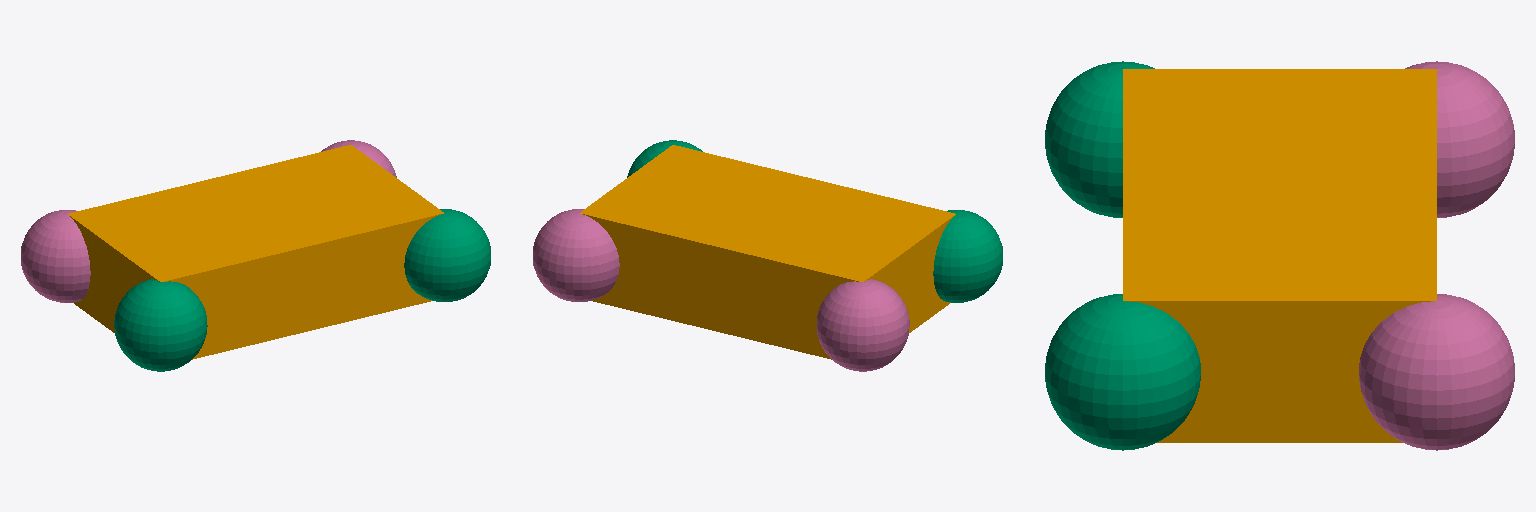
The robot description file, URDF, robot "cheetah3":
<?xml version="1.0" ?>
<robot name="cheetah3" xmlns:xacro="http://ros.org/wiki/xacro">
  <!-- ===== DUMMY 'BASE' LINK ==== -->
  <link name="body">
    <inertial>
      <!-- <mass value="8.9"/> -->
      <mass value="9.5"/>
      <!-- <origin xyz="0.00347 0.0 0.22524"/> -->
      <origin xyz="0.0 0.0 0.0"/>
      <inertia ixx="0.3006167" ixy="0" ixz="0" iyy="0.23837" iyz="0" izz="0.09690467"/>
    </inertial>
  <visual>
      <geometry>
          <box size="0.35 0.2 0.1" />
      </geometry>
     <origin rpy = "0 0 0" xyz = "0.0 0 0"/>
  </visual>
  </link>
  <!-- IMU -->
  <joint name="fixed_imu" type="fixed">
    <axis xyz="0 1 0"/>
    <origin rpy="0 0 0" xyz="-0.02 -0.07 0.05"/>
    <parent link="body"/>
    <child link="imu" />
  </joint>
  <link name="imu">
    <inertial>
      <mass value="0.0000000000001"/>
      <origin xyz="0.0 0.0 0.0"/>
      <inertia ixx="0.0000000001" ixy="0" ixz="0.0" iyy="0.000000001" iyz="0" izz="0.00000000001"/>
    </inertial>
  </link>


  <!--!!!!!!!!!!!! Front Right Leg !!!!!!!!!!!!!!!!!!!!!!!!!!!!!!!!!!!!-->
  <joint name="torso_to_abduct_fr_j" type="continuous">
    <axis xyz="1 0 0"/>
    <origin rpy="0 0 0" xyz="0.175 -0.1 0.0"/>
    <parent link="body"/>
    <child link="abduct_fr"/>
  </joint>
  <link name="abduct_fr">
    <inertial>
      <mass value="2.1656"/>
      <origin xyz="0.0 0. 0."/>
      <inertia ixx="0.003735" ixy="0.0" ixz="0.0" iyy="0.01391" iyz="0.0" izz="0.01355"/>
  </inertial>
  <visual>
      <geometry>
          <sphere radius="0.05" />
      </geometry>
     <origin rpy = "0 0 0" xyz = "0.0 0 0"/>
  </visual>
  </link>

  <joint name="abduct_fr_to_thigh_fr_j" type="continuous">
    <axis xyz="0 1 0"/>
    <origin rpy="0.0 0.0 0.0" xyz="0.0 -0.02 -0.02"/>
    <parent link="abduct_fr"/>
    <child link="thigh_fr"/>
  </joint>
  <link name="thigh_fr">
    <inertial>
      <mass value="3.2"/>
      <origin xyz="0.0 0.00 -0.075"/>
      <inertia ixx="0.038482" ixy="0" ixz="0.0" iyy="0.039835" iyz="-0.003" izz="0.0042934"/>
    </inertial>
  <visual>
      <geometry>
          <capsule radius="0.05" length="0.12" />
      </geometry>
      <origin rpy = "0 0 0" xyz = "0 0 0"/>
  </visual>
  </link>

  <joint name="thigh_fr_to_knee_fr_j" type="continuous">
    <axis xyz="0 1 0"/>
    <origin rpy="0.0 0 0.0" xyz="0.0 0.0 -0.15"/>
    <parent link="thigh_fr"/>
    <child link="shank_fr"/>
  </joint>
  <link name="shank_fr">
    <inertial>
      <mass value="0.649"/>
      <origin xyz="0.0 0.0 -0.075"/>
      <inertia ixx="0.00338" ixy="0" ixz="0.0" iyy="0.00338" iyz="0" izz="0.000011"/>
    </inertial>
  <visual>
      <geometry>
          <capsule radius="0.05" length="0.12" />
      </geometry>
      <origin rpy = "0 0 0" xyz = "0 0 0"/>
  </visual>
  </link>

  <joint name="ankle_fr" type="fixed">
    <axis xyz="0 1 0"/>
    <origin rpy="0 0 0" xyz="0.0 0.0 -0.135"/>
    <parent link="shank_fr"/>
    <child link="foot_fr" />
  </joint>
  <link name="foot_fr">
    <inertial>
      <mass value="0.123"/>
      <origin xyz="0.0 0.0 0.0"/>
      <inertia ixx="0.00001" ixy="0" ixz="0.0" iyy="0.00001" iyz="0" izz="0.00001"/>
    </inertial>
    <collision>
      <geometry>
        <sphere radius="0.03"/>
      </geometry>
      <origin rpy="0.0 0.0 0.0" xyz="0.0 0.0 0.0"/>
    </collision>
  </link>

<!--!!!!!!!!!!!! Front Left Leg !!!!!!!!!!!!!!!!!!!!!!!!!!!!!!!!!!!!-->
  <joint name="torso_to_abduct_fl_j" type="continuous">
    <axis xyz="1 0 0"/>
    <origin rpy="0 0 0" xyz="0.175 0.1 0.0"/>
    <parent link="body"/>
    <child link="abduct_fl"/>
  </joint>
  <link name="abduct_fl">
    <inertial>
      <mass value="2.1656"/>
      <origin xyz="0.0 0. 0."/>
      <inertia ixx="0.003735" ixy="0.0" ixz="0.0" iyy="0.01391" iyz="0.0" izz="0.01355"/>
  </inertial>
  <visual>
      <geometry>
          <sphere radius="0.05" />
      </geometry>
     <origin rpy = "0 0 0" xyz = "0.0 0 0"/>
  </visual>
  </link>

  <joint name="abduct_fl_to_thigh_fl_j" type="continuous">
    <axis xyz="0 1 0"/>
    <origin rpy="0.0 0.0 0.0" xyz="0.0 0.02 -0.02"/>
    <parent link="abduct_fl"/>
    <child link="thigh_fl"/>
  </joint>
  <link name="thigh_fl">
    <inertial>
      <mass value="3.2"/>
      <origin xyz="0.0 0.00 -0.075"/>
      <inertia ixx="0.038482" ixy="0" ixz="0.0" iyy="0.039835" iyz="-0.003" izz="0.0042934"/>
    </inertial>
  <visual>
      <geometry>
          <capsule radius="0.05" length="0.12" />
      </geometry>
      <origin rpy = "0 0 0" xyz = "0 0 0"/>
  </visual>
  </link>

  <joint name="thigh_fl_to_knee_fl_j" type="continuous">
    <axis xyz="0 1 0"/>
    <origin rpy="0.0 0 0.0" xyz="0.0 0.0 -0.15"/>
    <parent link="thigh_fl"/>
    <child link="shank_fl"/>
  </joint>
  <link name="shank_fl">
    <inertial>
      <mass value="0.649"/>
      <origin xyz="0.0 0.0 -0.075"/>
      <inertia ixx="0.00338" ixy="0" ixz="0.0" iyy="0.00338" iyz="0" izz="0.000011"/>
    </inertial>
  <visual>
      <geometry>
          <capsule radius="0.05" length="0.12" />
      </geometry>
      <origin rpy = "0 0 0" xyz = "0 0 0"/>
  </visual>
  </link>

  <joint name="ankle_fl" type="fixed">
    <axis xyz="0 1 0"/>
    <origin rpy="0 0 0" xyz="0.0 0.0 -0.135"/>
    <parent link="shank_fl"/>
    <child link="foot_fl" />
  </joint>
  <link name="foot_fl">
    <inertial>
      <mass value="0.123"/>
      <origin xyz="0.0 0.0 0.0"/>
      <inertia ixx="0.00001" ixy="0" ixz="0.0" iyy="0.00001" iyz="0" izz="0.00001"/>
    </inertial>
    <collision>
      <geometry>
        <sphere radius="0.03"/>
      </geometry>
      <origin rpy="0.0 0.0 0.0" xyz="0.0 0.0 0.0"/>
    </collision>
  </link>
<!--!!!!!!!!!!!! Hind Right Leg !!!!!!!!!!!!!!!!!!!!!!!!!!!!!!!!!!!!-->
  <joint name="torso_to_abduct_hr_j" type="continuous">
    <axis xyz="1 0 0"/>
    <origin rpy="0 0 0" xyz="-0.175 -0.1 0.0"/>
    <parent link="body"/>
    <child link="abduct_hr"/>
  </joint>
  <link name="abduct_hr">
    <inertial>
      <mass value="2.1656"/>
      <origin xyz="0.0 0. 0."/>
      <inertia ixx="0.003735" ixy="0.0" ixz="0.0" iyy="0.01391" iyz="0.0" izz="0.01355"/>
  </inertial>
  <visual>
      <geometry>
          <sphere radius="0.05" />
      </geometry>
     <origin rpy = "0 0 0" xyz = "0.0 0 0"/>
  </visual>
  </link>

  <joint name="abduct_hr_to_thigh_hr_j" type="continuous">
    <axis xyz="0 1 0"/>
    <origin rpy="0.0 0.0 0.0" xyz="0.0 -0.02 -0.02"/>
    <parent link="abduct_hr"/>
    <child link="thigh_hr"/>
  </joint>
  <link name="thigh_hr">
    <inertial>
      <mass value="3.2"/>
      <origin xyz="0.0 0.00 -0.075"/>
      <inertia ixx="0.038482" ixy="0" ixz="0.0" iyy="0.039835" iyz="-0.003" izz="0.0042934"/>
    </inertial>
  <visual>
      <geometry>
          <capsule radius="0.05" length="0.12" />
      </geometry>
      <origin rpy = "0 0 0" xyz = "0 0 0"/>
  </visual>
  </link>

  <joint name="thigh_hr_to_knee_hr_j" type="continuous">
    <axis xyz="0 1 0"/>
    <origin rpy="0.0 0 0.0" xyz="0.0 0.0 -0.15"/>
    <parent link="thigh_hr"/>
    <child link="shank_hr"/>
  </joint>
  <link name="shank_hr">
    <inertial>
      <mass value="0.649"/>
      <origin xyz="0.0 0.0 -0.075"/>
      <inertia ixx="0.00338" ixy="0" ixz="0.0" iyy="0.00338" iyz="0" izz="0.000011"/>
    </inertial>
  <visual>
      <geometry>
          <capsule radius="0.05" length="0.12" />
      </geometry>
      <origin rpy = "0 0 0" xyz = "0 0 0"/>
  </visual>
  </link>

  <joint name="ankle_hr" type="fixed">
    <axis xyz="0 1 0"/>
    <origin rpy="0 0 0" xyz="0.0 0.0 -0.135"/>
    <parent link="shank_hr"/>
    <child link="foot_hr" />
  </joint>
  <link name="foot_hr">
    <inertial>
      <mass value="0.123"/>
      <origin xyz="0.0 0.0 0.0"/>
      <inertia ixx="0.00001" ixy="0" ixz="0.0" iyy="0.00001" iyz="0" izz="0.00001"/>
    </inertial>
    <collision>
      <geometry>
        <sphere radius="0.03"/>
      </geometry>
      <origin rpy="0.0 0.0 0.0" xyz="0.0 0.0 0.0"/>
    </collision>
  </link>
<!--!!!!!!!!!!!! Hind Left Leg !!!!!!!!!!!!!!!!!!!!!!!!!!!!!!!!!!!!-->
  <joint name="torso_to_abduct_hl_j" type="continuous">
    <axis xyz="1 0 0"/>
    <origin rpy="0 0 0" xyz="-0.175 0.1 0.0"/>
    <parent link="body"/>
    <child link="abduct_hl"/>
  </joint>
  <link name="abduct_hl">
    <inertial>
      <mass value="2.1656"/>
      <origin xyz="0.0 0. 0."/>
      <inertia ixx="0.003735" ixy="0.0" ixz="0.0" iyy="0.01391" iyz="0.0" izz="0.01355"/>
  </inertial>
  <visual>
      <geometry>
          <sphere radius="0.05" />
      </geometry>
     <origin rpy = "0 0 0" xyz = "0.0 0 0"/>
  </visual>
  </link>

  <joint name="abduct_hl_to_thigh_hl_j" type="continuous">
    <axis xyz="0 1 0"/>
    <origin rpy="0.0 0.0 0.0" xyz="0.0 0.02 -0.02"/>
    <parent link="abduct_hl"/>
    <child link="thigh_hl"/>
  </joint>
  <link name="thigh_hl">
    <inertial>
      <mass value="3.2"/>
      <origin xyz="0.0 0.00 -0.075"/>
      <inertia ixx="0.038482" ixy="0" ixz="0.0" iyy="0.039835" iyz="-0.003" izz="0.0042934"/>
    </inertial>
  <visual>
      <geometry>
          <capsule radius="0.05" length="0.12" />
      </geometry>
      <origin rpy = "0 0 0" xyz = "0 0 0"/>
  </visual>
  </link>

  <joint name="thigh_hl_to_knee_hl_j" type="continuous">
    <axis xyz="0 1 0"/>
    <origin rpy="0.0 0 0.0" xyz="0.0 0.0 -0.15"/>
    <parent link="thigh_hl"/>
    <child link="shank_hl"/>
  </joint>
  <link name="shank_hl">
    <inertial>
      <mass value="0.649"/>
      <origin xyz="0.0 0.0 -0.075"/>
      <inertia ixx="0.00338" ixy="0" ixz="0.0" iyy="0.00338" iyz="0" izz="0.000011"/>
    </inertial>
  <visual>
      <geometry>
          <capsule radius="0.05" length="0.12" />
      </geometry>
      <origin rpy = "0 0 0" xyz = "0 0 0"/>
  </visual>
  </link>

  <joint name="ankle_hl" type="fixed">
    <axis xyz="0 1 0"/>
    <origin rpy="0 0 0" xyz="0.0 0.0 -0.135"/>
    <parent link="shank_hl"/>
    <child link="foot_hl" />
  </joint>
  <link name="foot_hl">
    <inertial>
      <mass value="0.123"/>
      <origin xyz="0.0 0.0 0.0"/>
      <inertia ixx="0.00001" ixy="0" ixz="0.0" iyy="0.00001" iyz="0" izz="0.00001"/>
    </inertial>
    <collision>
      <geometry>
        <sphere radius="0.03"/>
      </geometry>
      <origin rpy="0.0 0.0 0.0" xyz="0.0 0.0 0.0"/>
    </collision>
  </link>
</robot>

--- Render facts (derived) ---
3 views of the same robot in one strip: view 1: azimuth 30°, elevation 25°; view 2: azimuth 150°, elevation 25°; view 3: azimuth 270°, elevation 25° (orthographic).
Model cheetah3 with 18 links and 17 joints (12 continuous, 5 fixed), rooted at body, posed every joint at zero.
Links seen in each view (by area): view 1: body, abduct_hr, abduct_fr, abduct_hl, abduct_fl; view 2: body, abduct_hl, abduct_fl, abduct_hr, abduct_fr; view 3: body, abduct_fr, abduct_fl, abduct_hr, abduct_hl.
Boxes of the visible links, x1,y1,x2,y2 form: body: (68, 145, 443, 359); abduct_hr: (114, 279, 207, 371); abduct_fr: (404, 209, 490, 301); abduct_hl: (21, 210, 90, 302); abduct_fl: (321, 140, 396, 177); body: (580, 145, 955, 359); abduct_hl: (816, 279, 909, 371); abduct_fl: (533, 209, 619, 301); abduct_hr: (933, 210, 1002, 302); abduct_fr: (627, 140, 702, 177); body: (1123, 69, 1436, 442); abduct_fr: (1045, 294, 1200, 450); abduct_fl: (1359, 294, 1514, 450); abduct_hr: (1045, 61, 1154, 217); abduct_hl: (1405, 61, 1514, 217).
Size in the robot's own frame: 0.45 by 0.3 by 0.1 metres.
Geometry: primitives only (box / cylinder / sphere), no mesh files.